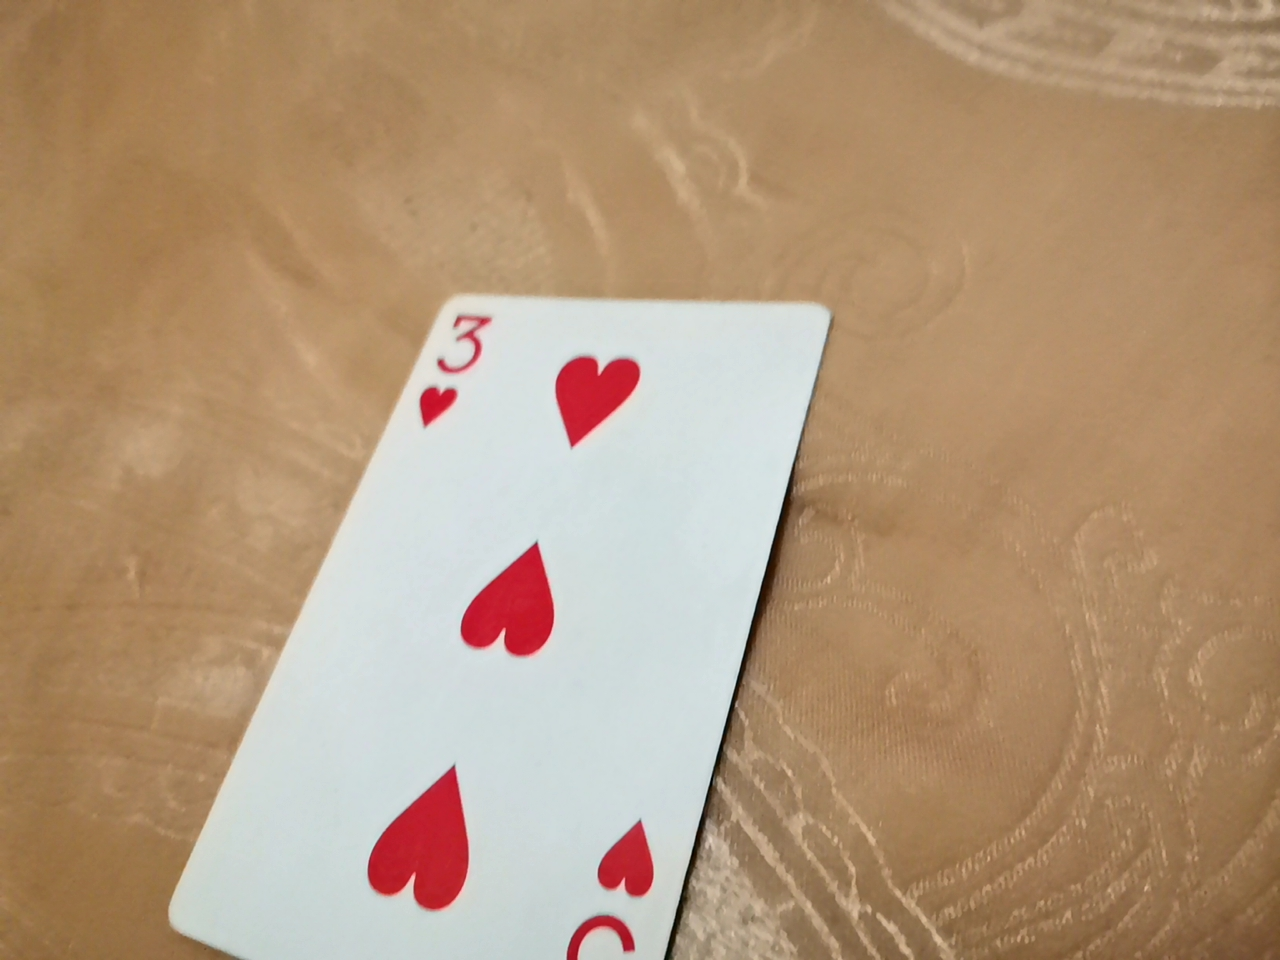hx 3: (216, 201, 863, 956)
